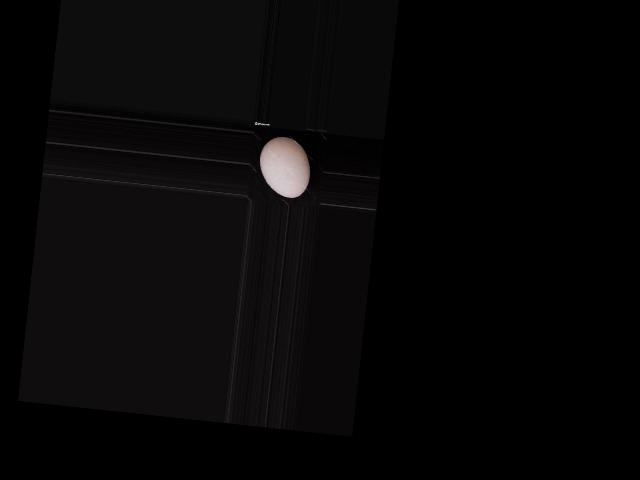egg: (256, 134, 314, 199)
